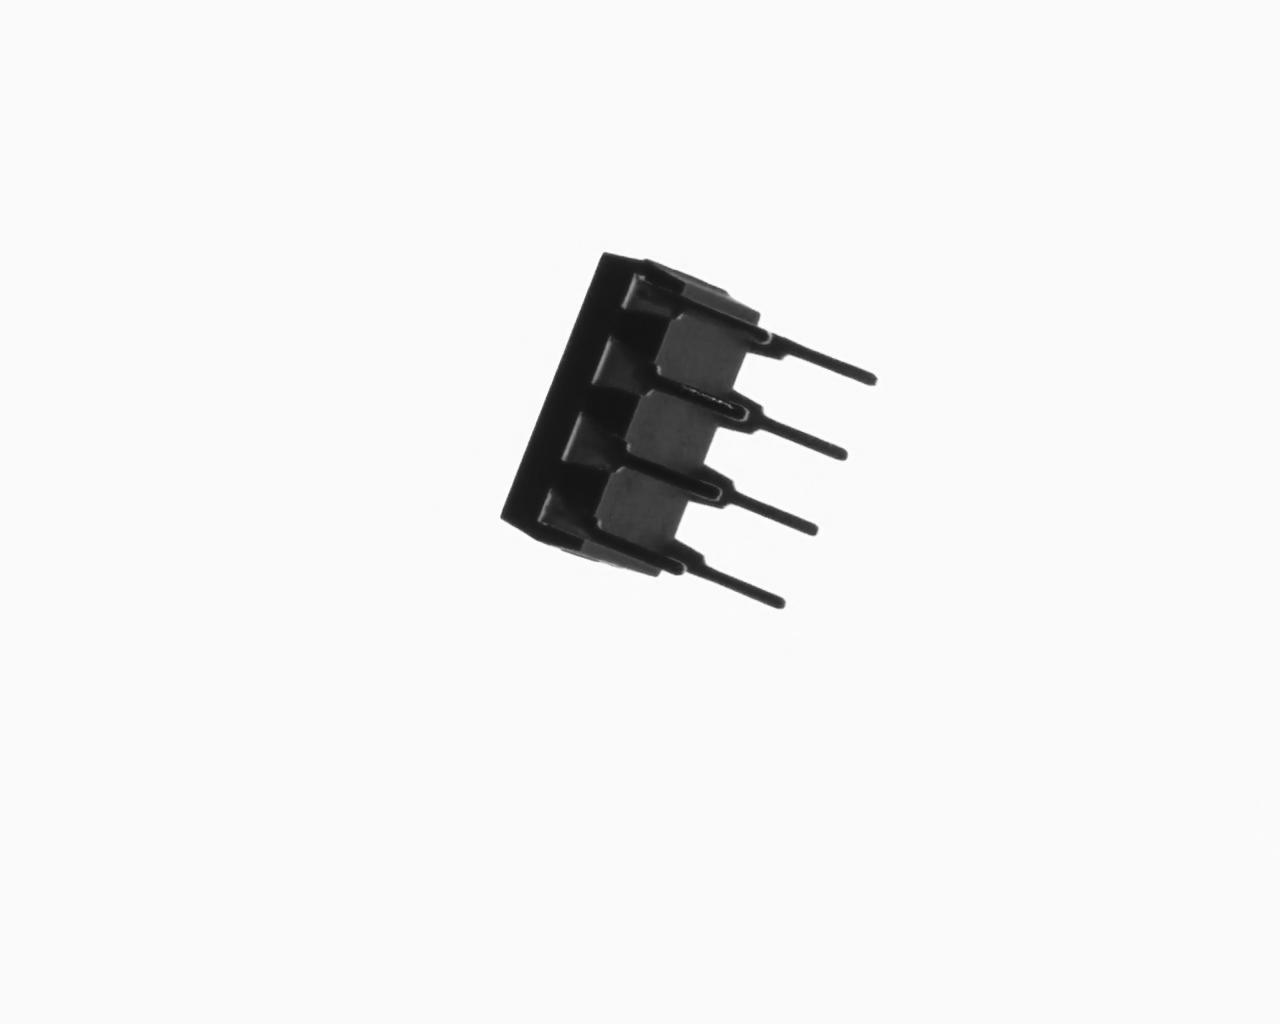Leg: (654, 280, 776, 348)
